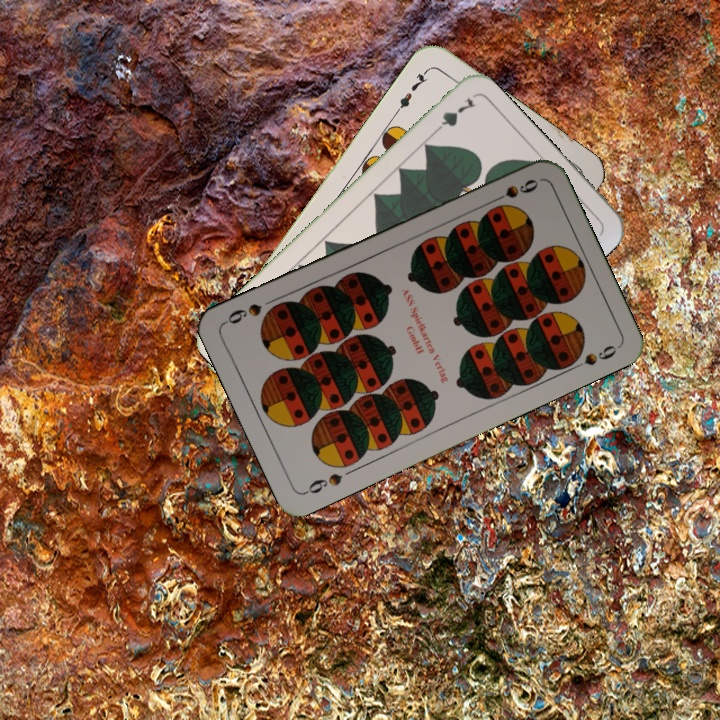E7: (391, 65, 431, 116)
G7: (427, 92, 479, 139)
S9: (485, 174, 541, 207), (300, 469, 345, 497)
